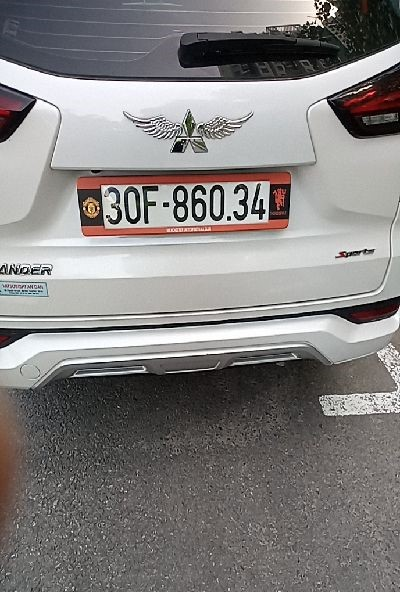number_plate: (70, 152, 327, 246)
